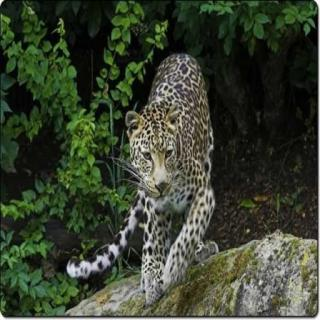Leopard: (72, 60, 246, 269)
